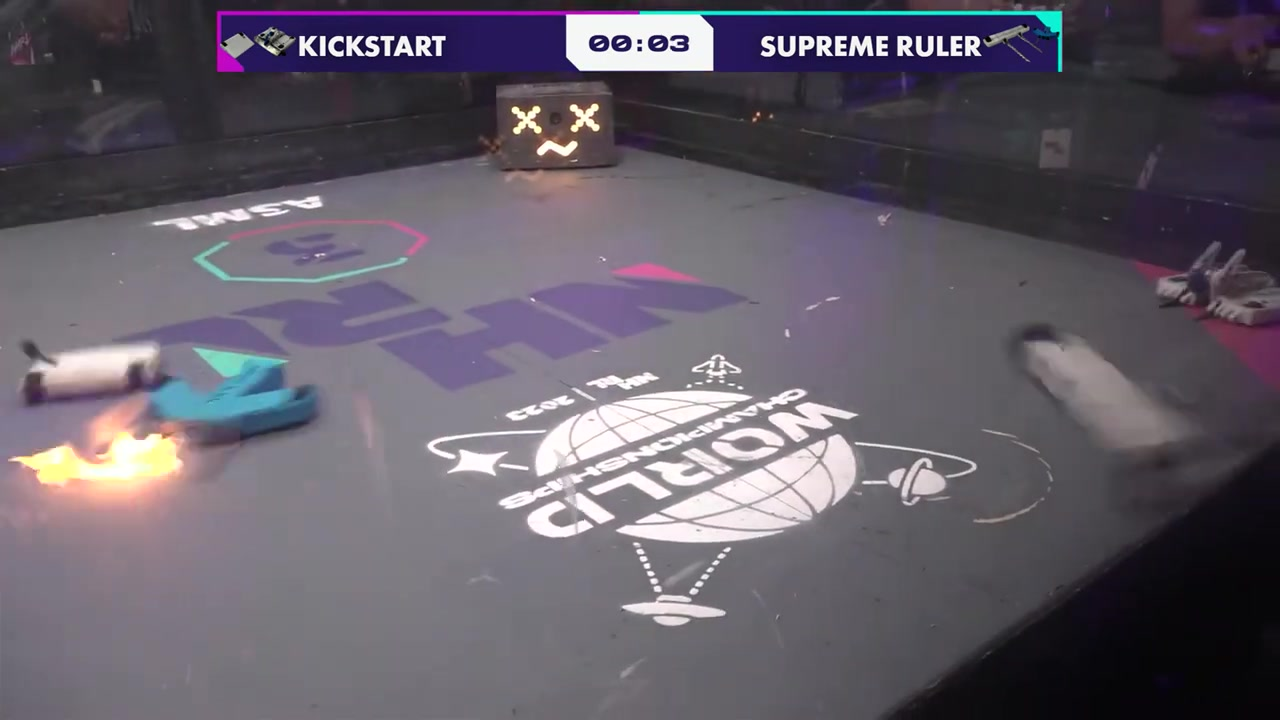combatbot: (1020, 337, 1180, 452), (155, 359, 320, 441), (1153, 264, 1274, 326)
housebot: (496, 83, 621, 169)
minibot: (19, 341, 156, 403)
